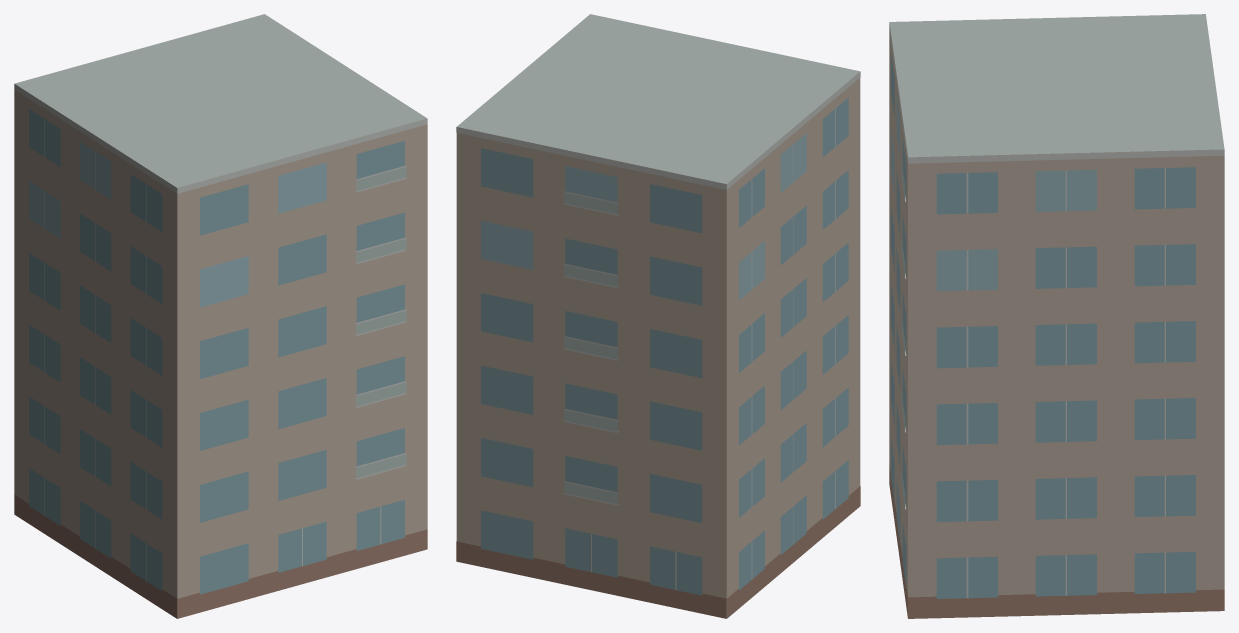
File: survey-upis-32636535.glb
3 views of the same model, side by side, from view 1: azimuth 30°, elevation 25°; view 2: azimuth 150°, elevation 25°; view 3: azimuth 270°, elevation 25° (orthographic). The views are drawn at different scales.
Visible parts, largest first — view 1: survey-upis-32636535.tmp; view 2: survey-upis-32636535.tmp; view 3: survey-upis-32636535.tmp.
Part boxes in pixels (left/top/right/bottom): survey-upis-32636535.tmp: left=14, top=14, right=427, bottom=618; survey-upis-32636535.tmp: left=456, top=14, right=860, bottom=618; survey-upis-32636535.tmp: left=889, top=14, right=1224, bottom=618.
Size of the model in its own units: 12 by 18 by 11.86.
